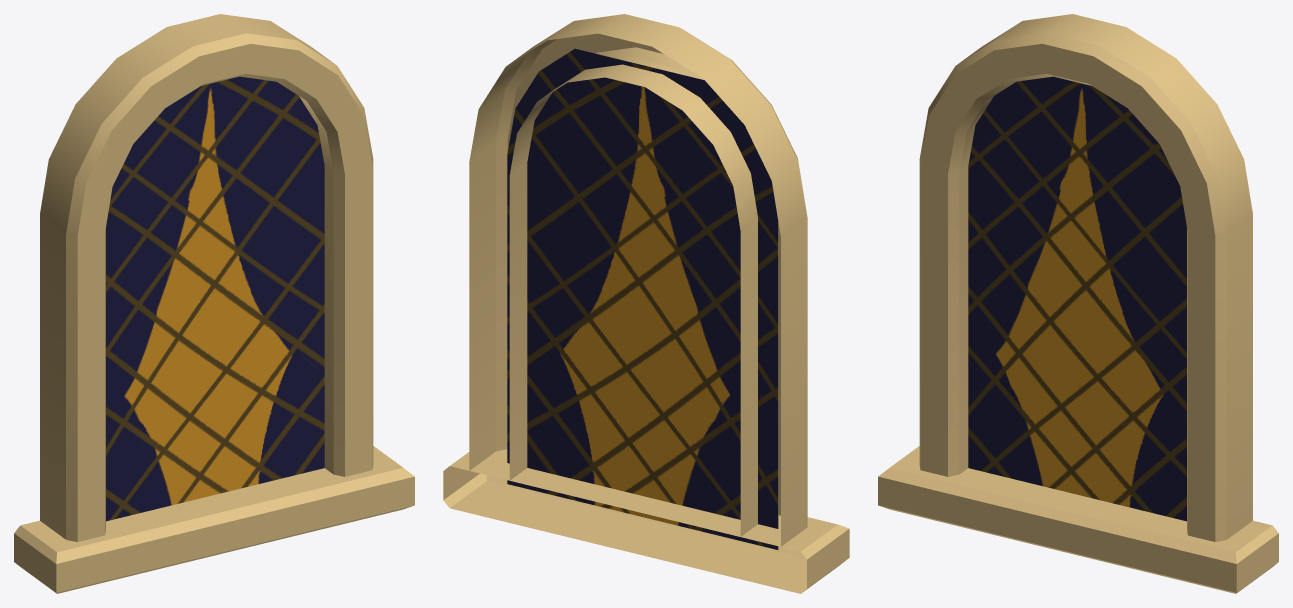
Rendered from Window.fbx.
3 views of the same model, side by side, from view 1: azimuth 30°, elevation 25°; view 2: azimuth 150°, elevation 25°; view 3: azimuth 330°, elevation 25° (orthographic).
Parts seen in each view (by area): view 1: Window002; view 2: Window002; view 3: Window002.
Part boxes in pixels (x1,y1,x2,y2): Window002: [14, 14, 414, 593]; Window002: [443, 14, 849, 593]; Window002: [878, 14, 1278, 593].
Size of the model in its own units: 58.57 by 78.69 by 11.9.
